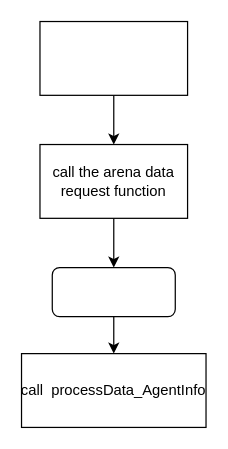
Image size: 228x449. Some labels were removed from this diagram. Each missing label, with the centre of its shape:
"construct the game arena request objecgt" belongs at point 113,57.
"data received" belongs at point 113,291.
